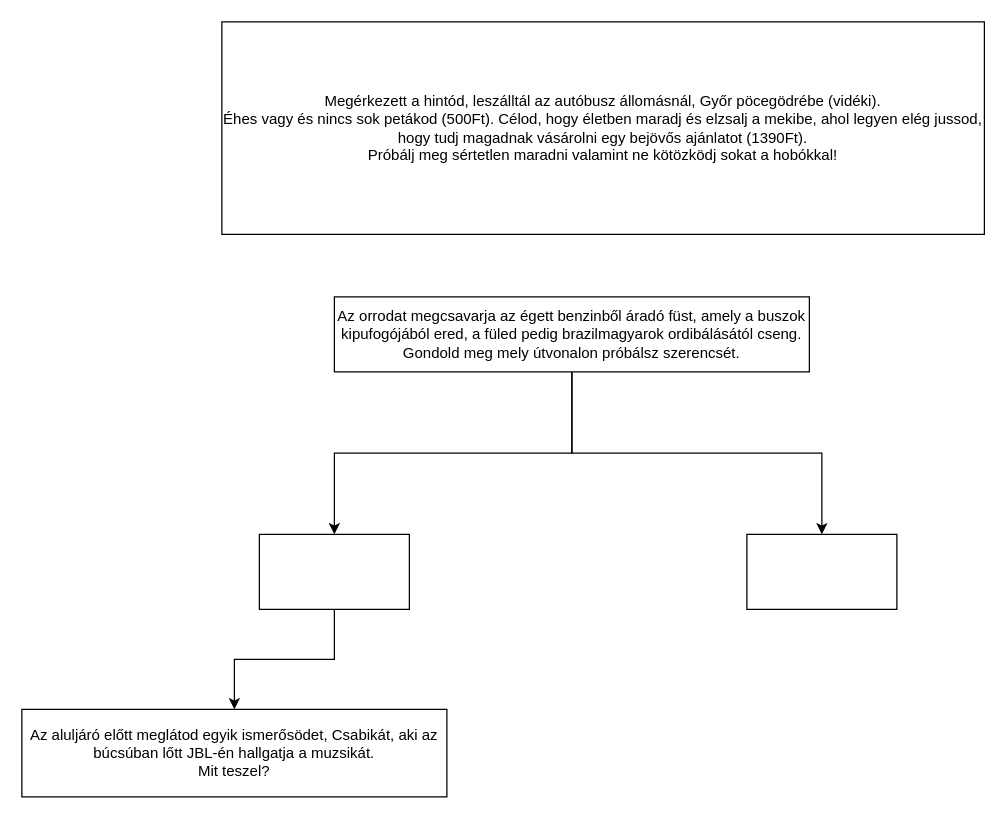
The diagram is 1006 pixels wide and 819 high, and some of its shapes have lost their labels. The shapes that lost their labels are listed below. From the top down, each one's box as (x1, y1, x2, y2) in pixels, then its label:
(258, 533, 409, 609): aluljáró
(746, 533, 897, 609): Baross Gábor híd
